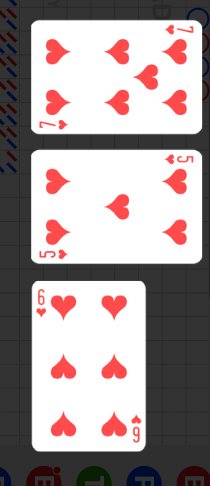5H: (37, 248, 69, 260)
6H: (129, 413, 142, 444)
7H: (163, 24, 195, 37)
